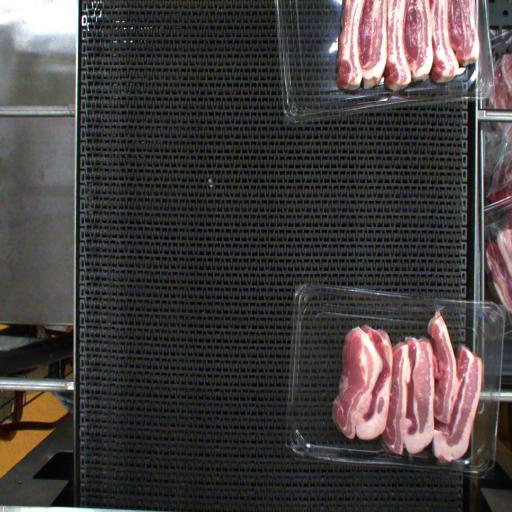packaging-error: (430, 292, 451, 326)
